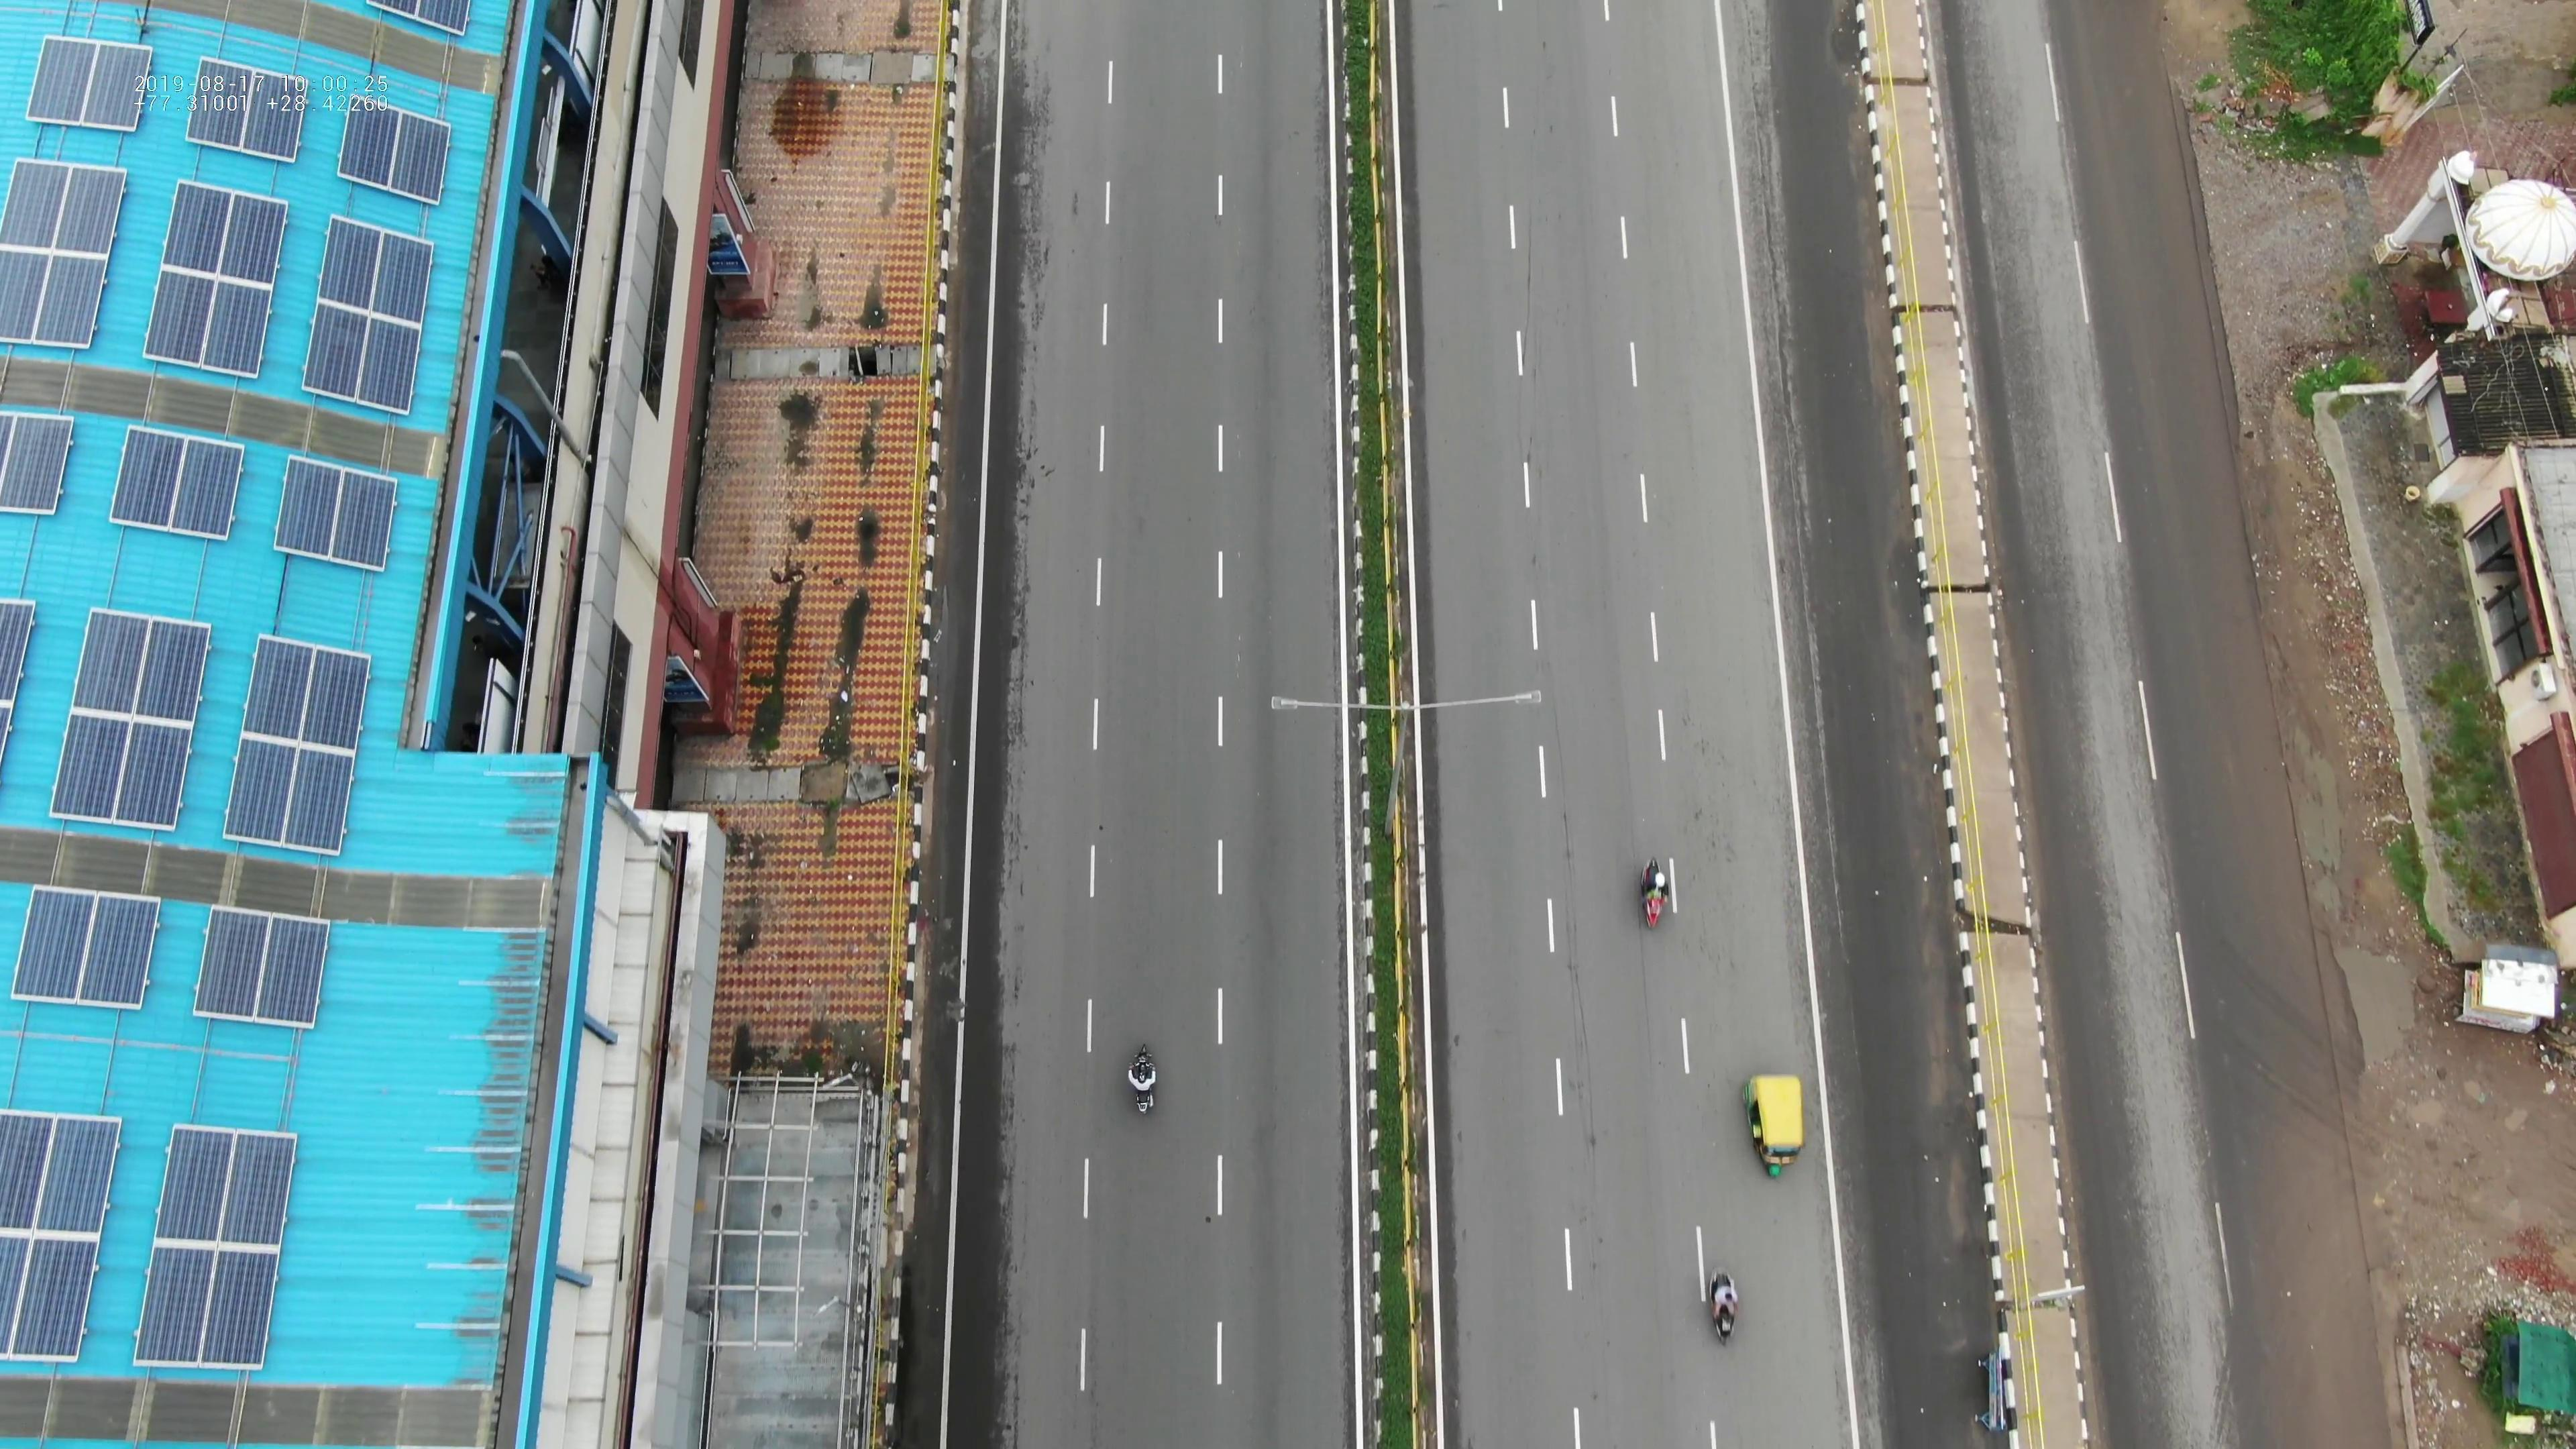Hair_cracks: (1746, 170, 1826, 531)
Muddy_road: (2120, 145, 2219, 410), (2212, 686, 2300, 961), (2270, 1143, 2360, 1366)
Waterlogging: (1884, 547, 1936, 655), (1822, 2, 1877, 85)
